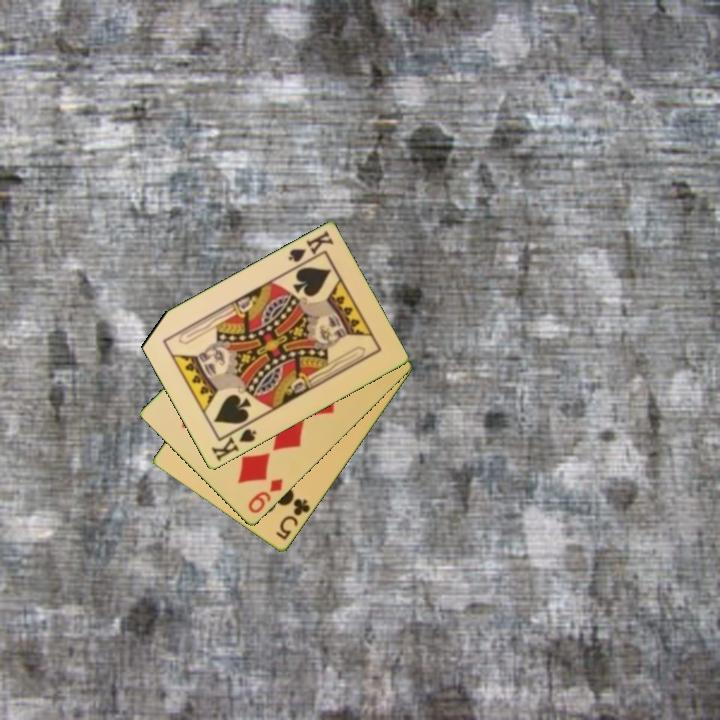5c: (272, 495, 313, 543)
9d: (244, 476, 286, 516)
Ks: (284, 227, 337, 272), (208, 420, 259, 465)
